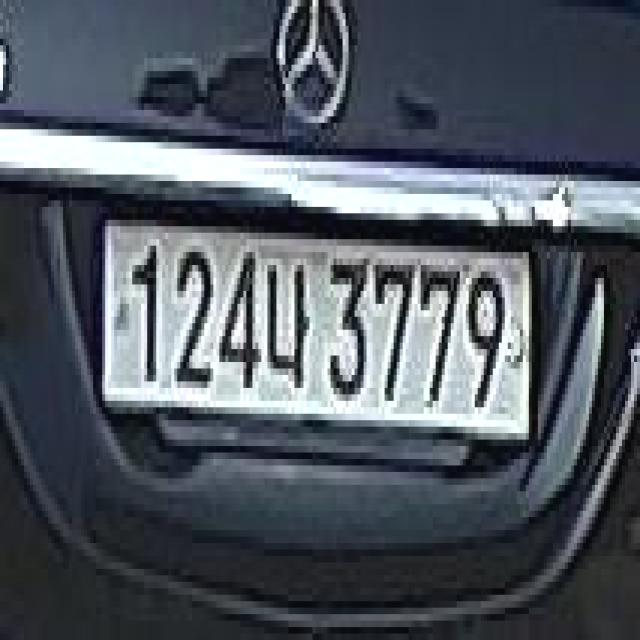illegal_plate: (93, 196, 537, 485)
